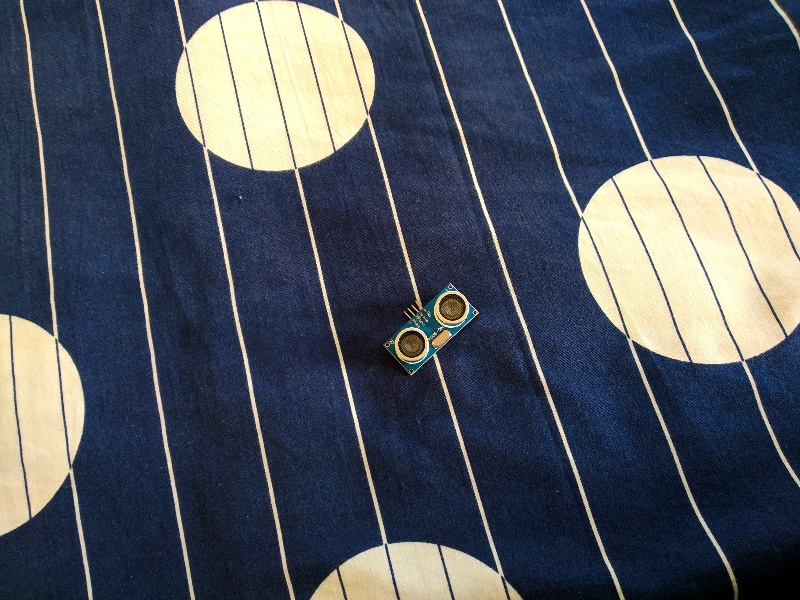Sonar Sensor: (376, 281, 483, 381)
